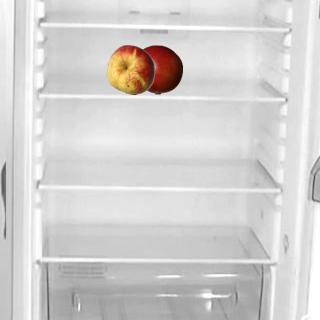Apple Braeburn: (132, 44, 182, 94)
Apple Red Yellow 1: (105, 44, 155, 94)
